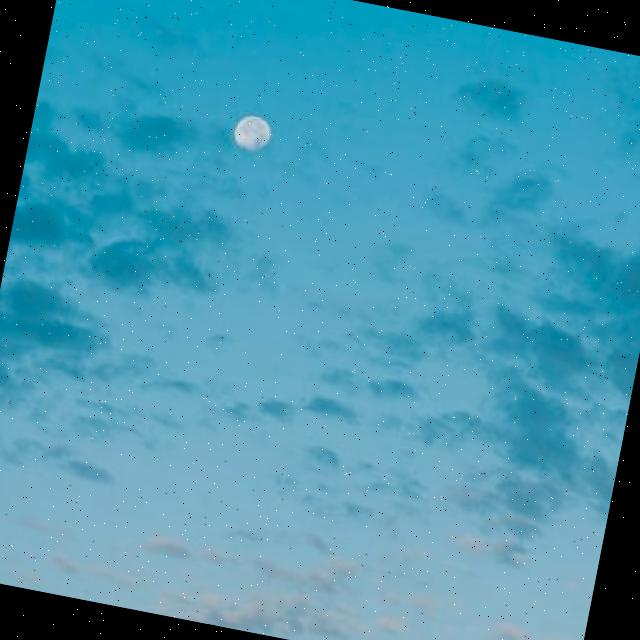Cc: (1, 129, 640, 640)
